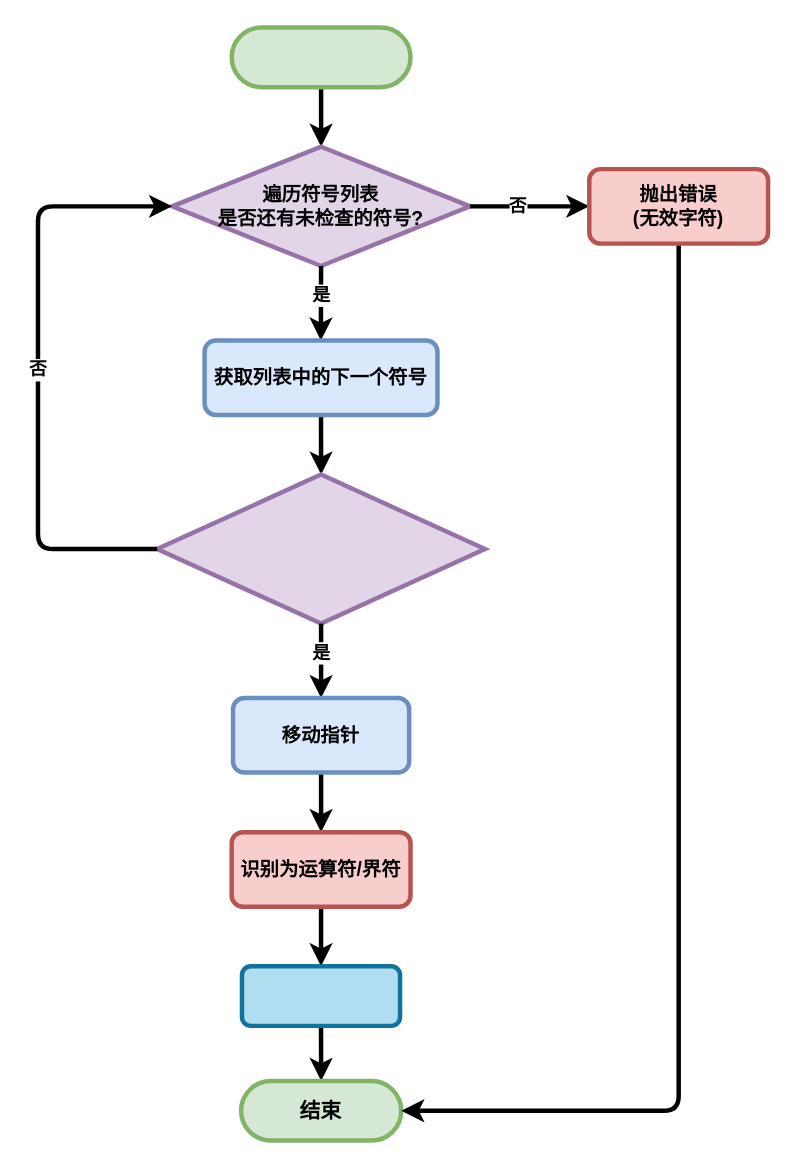
Image size: 796x1168. Some labels were removed from this diagram. Here are the shapes that lost their labels. From the top down, the box of each, then its label:
(229, 25, 412, 89): 开始
(154, 472, 486, 625): 当前代码是否以该符号开头?
(239, 963, 402, 1027): 返回TOKEN
